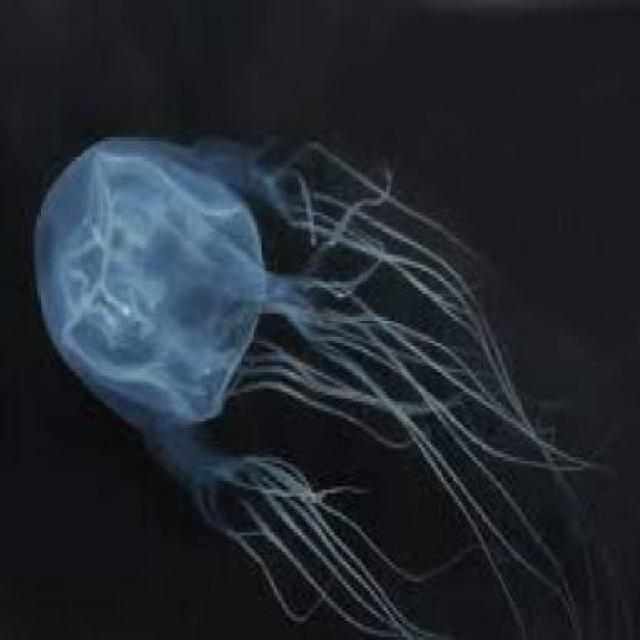Jellyfish: (24, 114, 600, 631)
